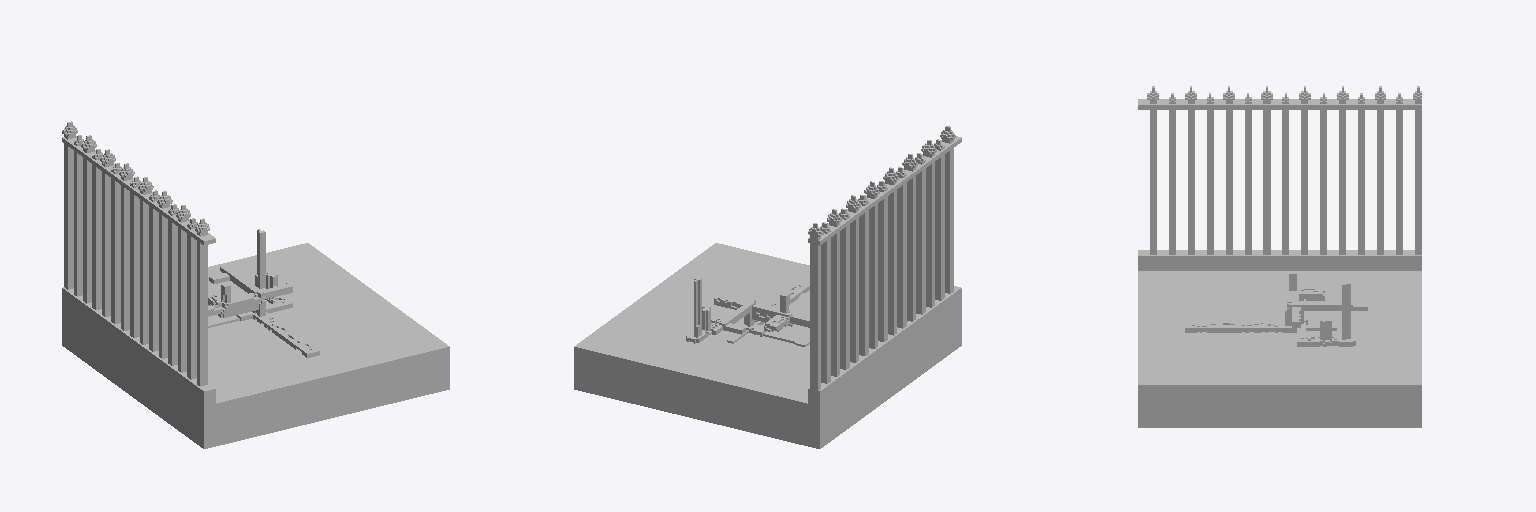
Rendered from 3d fon 3.1-5.obj.
3 renders of one model, left to right at view 1: azimuth 30°, elevation 25°; view 2: azimuth 150°, elevation 25°; view 3: azimuth 270°, elevation 25°, orthographic.
Visible parts, largest first — view 1: object 1; view 2: object 1; view 3: object 1.
Boxes of the visible parts, x1=… form: object 1: x1=62, y1=121, x2=449, y2=448; object 1: x1=574, y1=126, x2=961, y2=448; object 1: x1=1138, y1=86, x2=1421, y2=427.
Size of the model in its own units: 12 by 10.4 by 12.